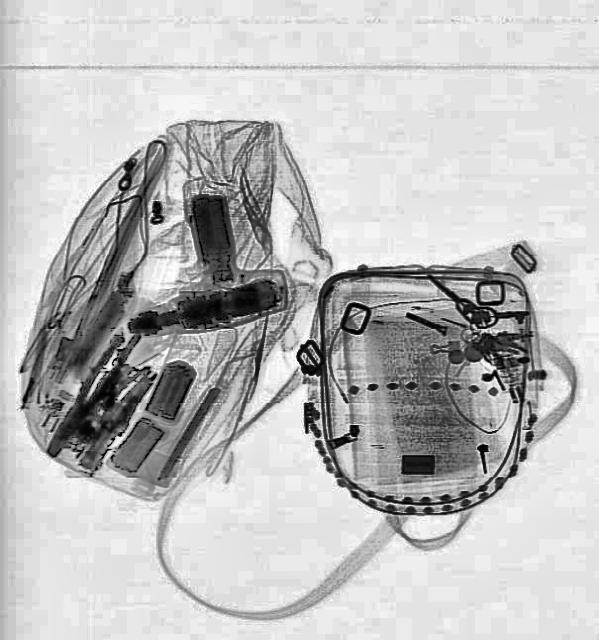Pliers: (48, 320, 142, 444)
